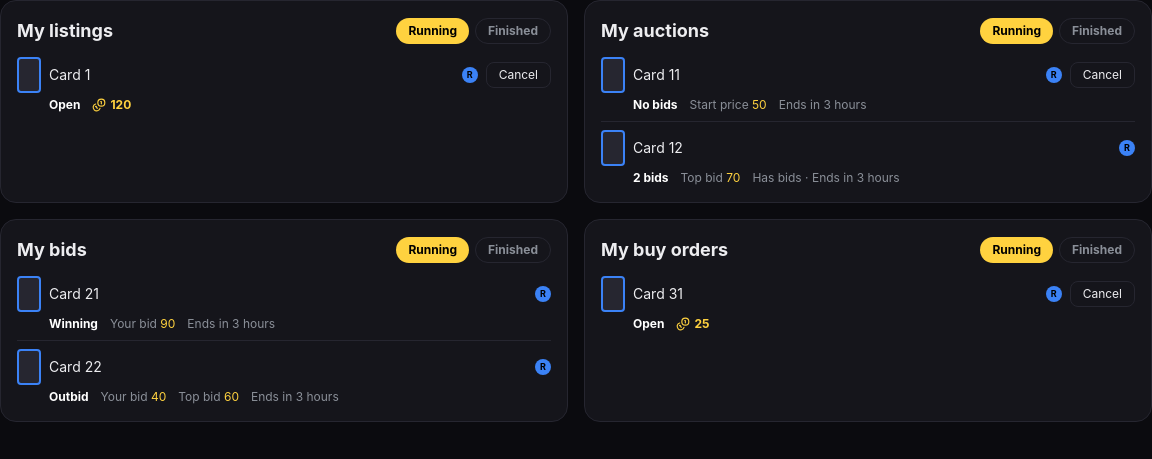
Scenario: ActivityTab › maps cancel errors and refreshes
The width and height of the screenshot is (1152, 459).
What coordinates should you click on to do the following:
click the button with aria-label "Cancel Card 11"
I would click on:
 (1102, 75)
Its box is x1=1070 y1=62 x2=1135 y2=88.
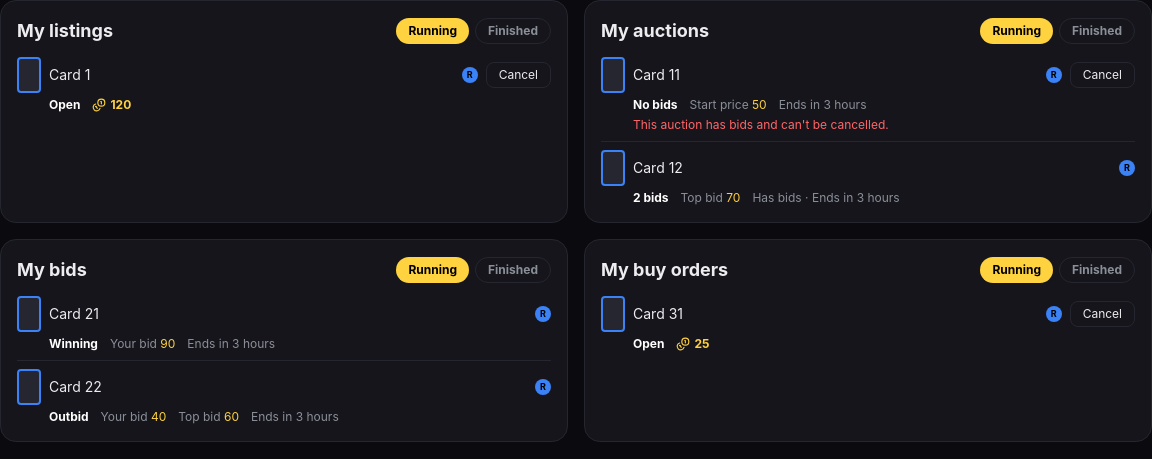
Expected: the message reads "This auction has bids and can't be cancelled.", x1=633 y1=117 x2=889 y2=132
